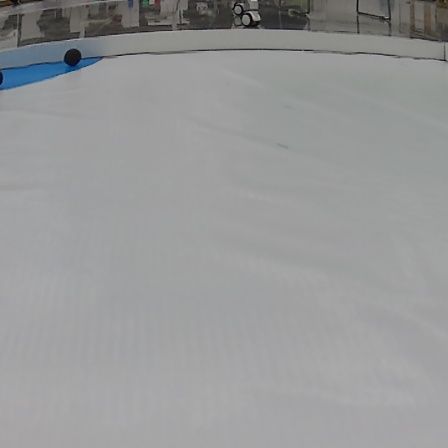black: (62, 44, 85, 68)
blue_base: (0, 54, 109, 92)
